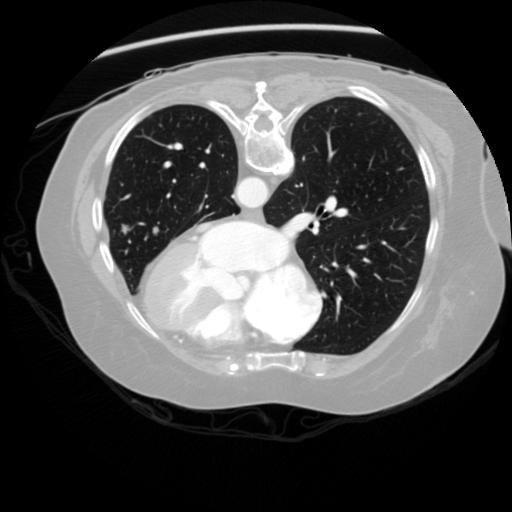nodule: (150, 225, 165, 240)
